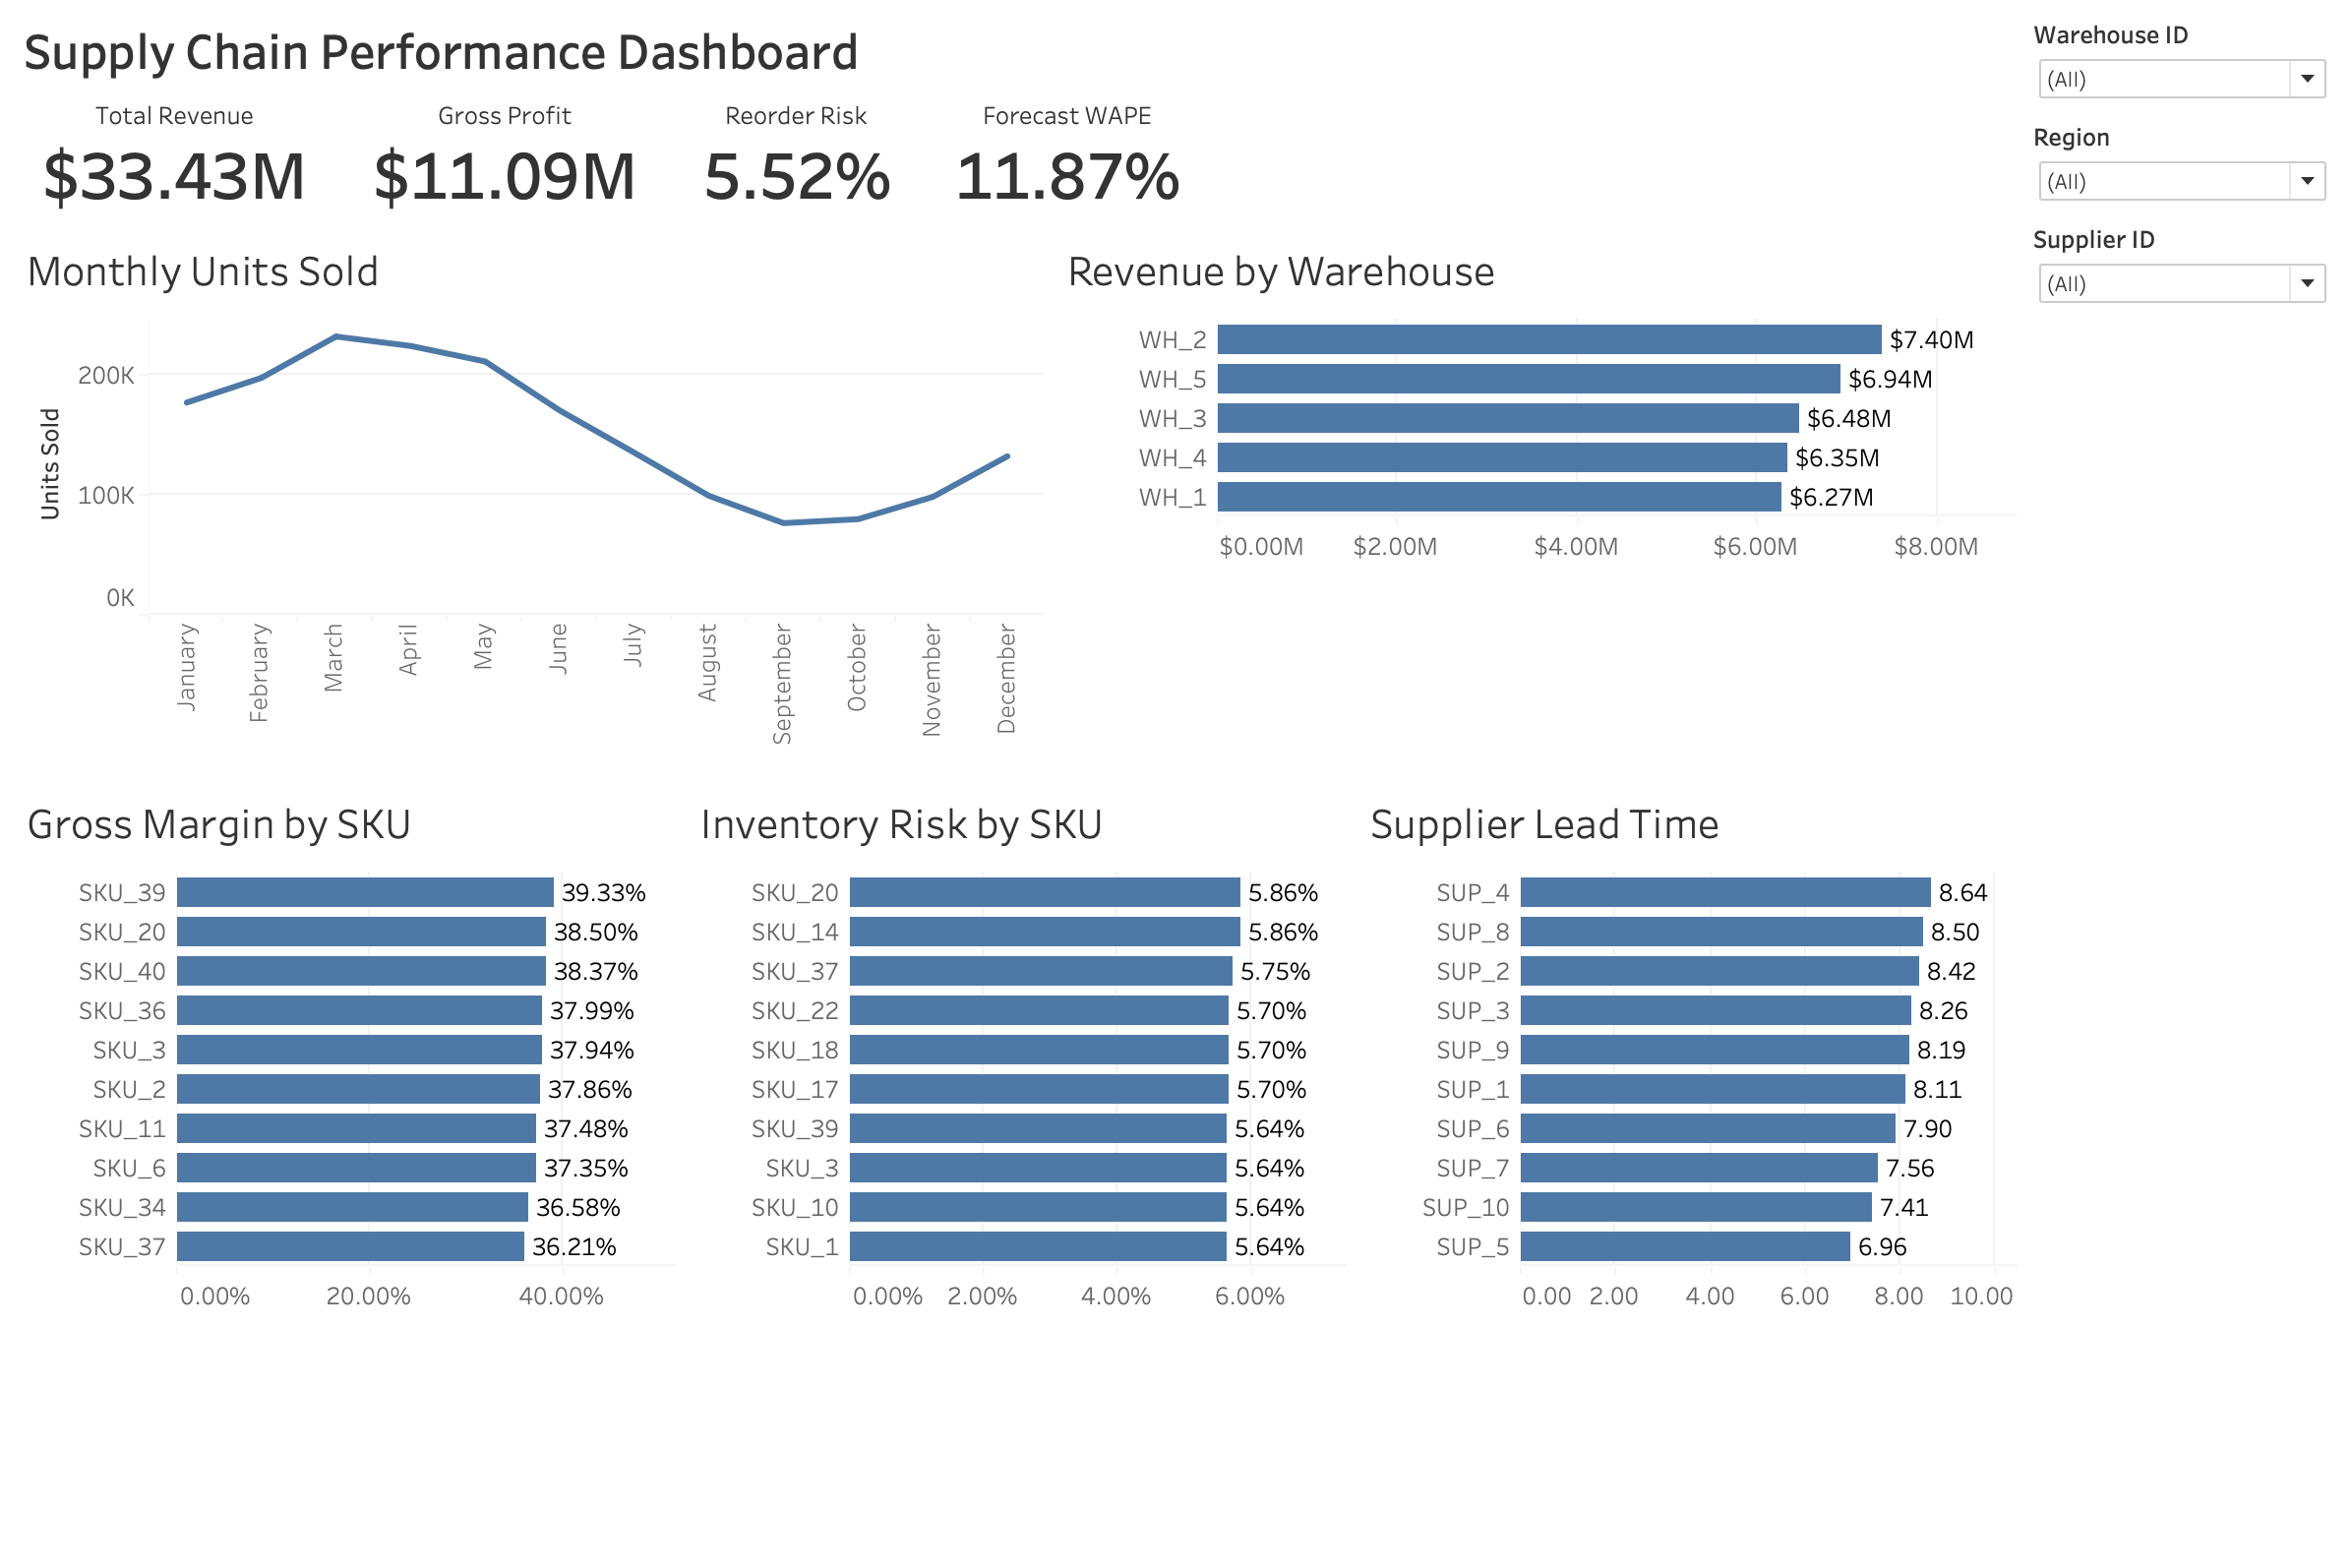

The dashboard page shown, as its layout file describes it:
{"tool":"tableau","page":{"name":"Dashboard 1","canvas":[1200,800],"ordinal":0},"visuals":[{"type":"title","box":[8,8,1024,41]},{"type":"filter","title":"Revenue by Warehouse","param":"[federated.1rmigfv03yb7ux1fmxzo317wj39w].[none:Warehouse_ID:nk]","box":[1032,8,160,52]},{"type":"worksheet","title":"KPI - Revenue","mark":"Automatic","box":[8,49,168,69]},{"type":"worksheet","title":"KPI - Gross Profit","mark":"Automatic","box":[176,49,168,69]},{"type":"worksheet","title":"KPI - Reorder Risk","mark":"Automatic","box":[344,49,128,69]},{"type":"worksheet","title":"Forecast Accuracy","mark":"Automatic","box":[472,49,148,69]},{"type":"filter","title":"Revenue by Warehouse","param":"[federated.1rmigfv03yb7ux1fmxzo317wj39w].[none:Region:nk]","box":[1032,60,160,52]},{"type":"filter","title":"Supplier Lead Time","param":"[federated.1rmigfv03yb7ux1fmxzo317wj39w].[none:Supplier_ID:nk]","box":[1032,112,160,52]},{"type":"worksheet","title":"Monthly Performance","mark":"Automatic","rows":["Units_Sold"],"cols":["Date"],"box":[8,118,529.3,280.7]},{"type":"worksheet","title":"Revenue by Warehouse","mark":"Automatic","rows":["Warehouse_ID"],"cols":["Revenue"],"box":[537.3,118,494.7,280.7]},{"type":"worksheet","title":"Gross Margin by SKU","mark":"Automatic","rows":["SKU_ID"],"cols":["Calculation_3357891691429890"],"box":[8,399,342,393]},{"type":"worksheet","title":"Inventory Risk by SKU","mark":"Automatic","rows":["SKU_ID"],"cols":["Calculation_3357891693658115"],"box":[350,399,341,393]},{"type":"worksheet","title":"Supplier Lead Time","mark":"Automatic","rows":["Supplier_ID"],"cols":["Supplier_Lead_Time_Days"],"box":[691,399,341,393]}]}

Visuals, with their boxes in screenshot pixels (x1, y1, x2, y2), scaled from the page's 1200x800 canvas onto the 2352x1568 screenshot:
title: left=16, top=16, right=2022, bottom=96
"Revenue by Warehouse" filter: left=2022, top=16, right=2336, bottom=118
"KPI - Revenue" worksheet: left=16, top=96, right=345, bottom=231
"KPI - Gross Profit" worksheet: left=345, top=96, right=674, bottom=231
"KPI - Reorder Risk" worksheet: left=674, top=96, right=925, bottom=231
"Forecast Accuracy" worksheet: left=925, top=96, right=1215, bottom=231
"Revenue by Warehouse" filter: left=2022, top=118, right=2336, bottom=219
"Supplier Lead Time" filter: left=2022, top=219, right=2336, bottom=322
"Monthly Performance" worksheet: left=16, top=231, right=1054, bottom=781
"Revenue by Warehouse" worksheet: left=1054, top=231, right=2022, bottom=781
"Gross Margin by SKU" worksheet: left=16, top=782, right=686, bottom=1552
"Inventory Risk by SKU" worksheet: left=686, top=782, right=1355, bottom=1552
"Supplier Lead Time" worksheet: left=1355, top=782, right=2022, bottom=1552
